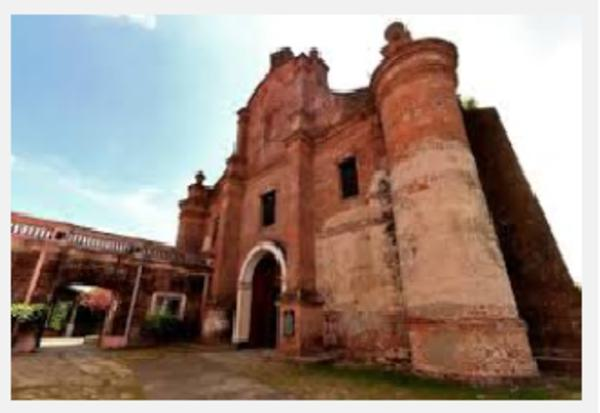Sta. Maria Church: (181, 21, 522, 381)
Unfinished Paint: (321, 176, 505, 310)
